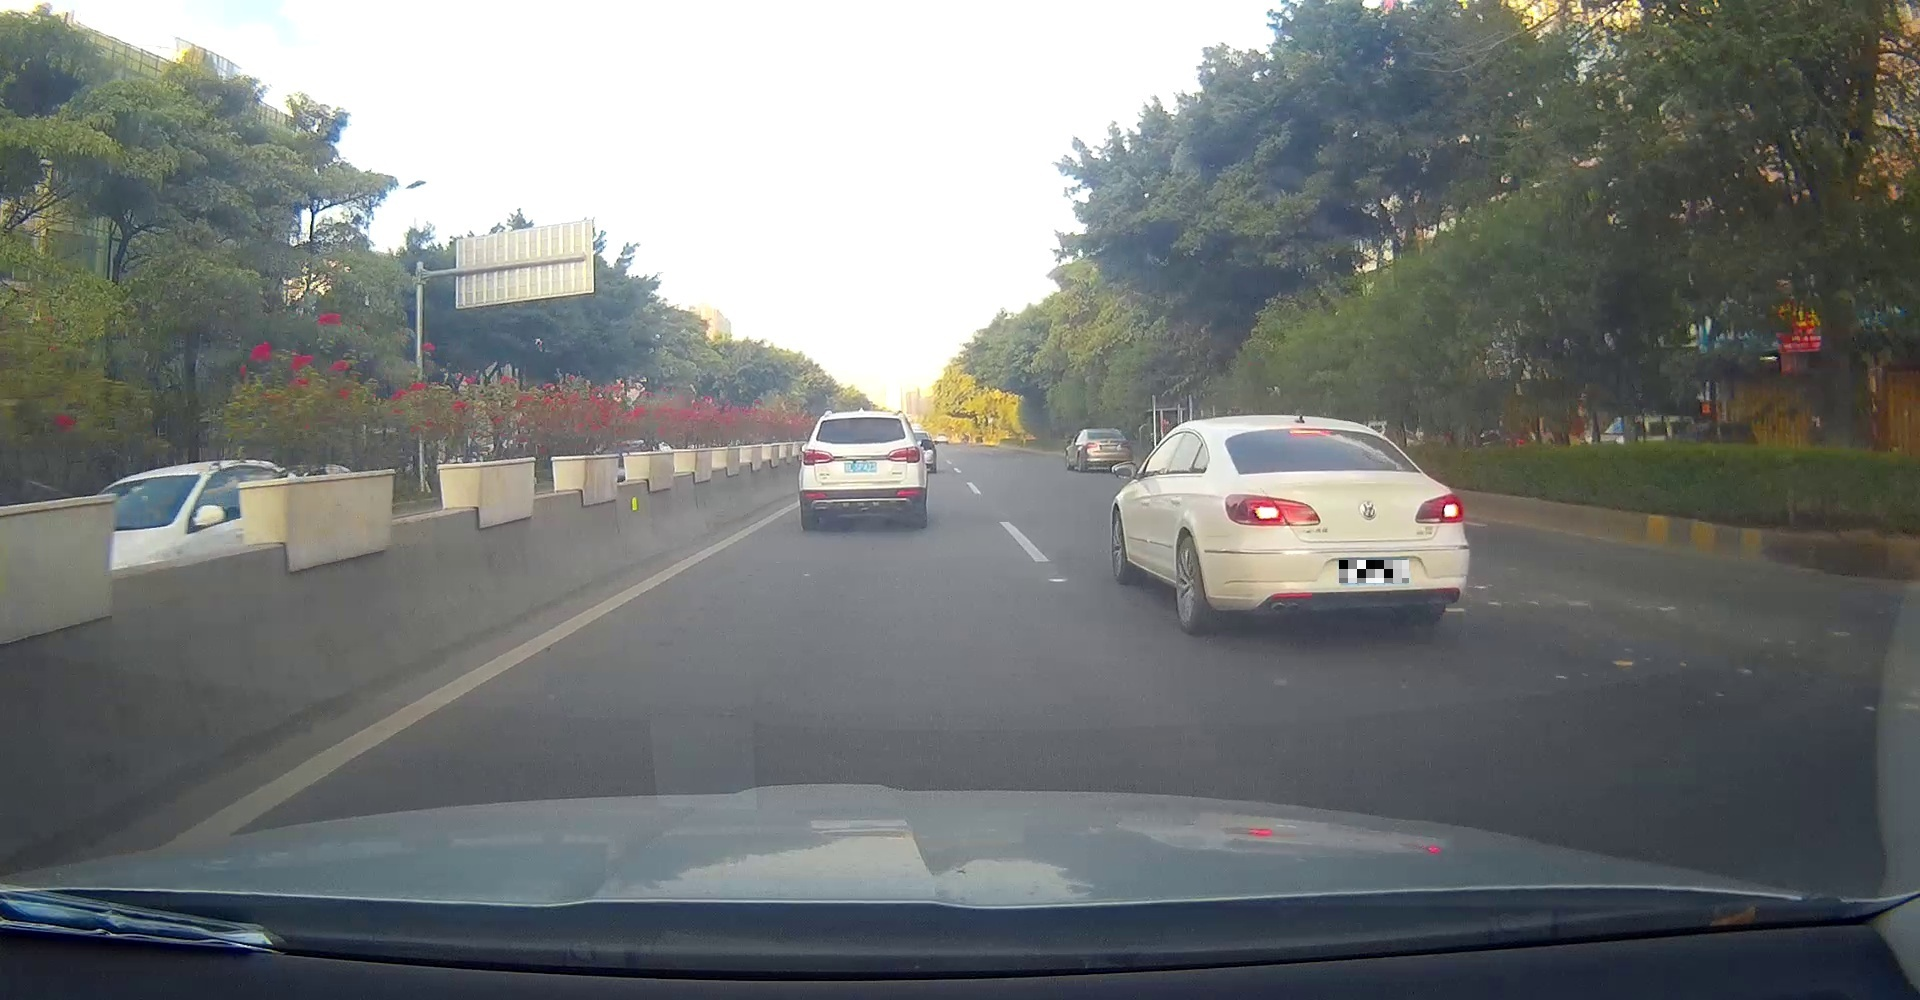L_light: (1224, 494, 1321, 525), (803, 449, 836, 466)
R_light: (1415, 492, 1463, 523), (888, 447, 919, 463)
T_light: (1289, 428, 1330, 435), (852, 418, 871, 421)
day-brake: (1223, 415, 1470, 635)
day-no: (799, 411, 926, 528)
plate_1: (1338, 560, 1410, 582)
